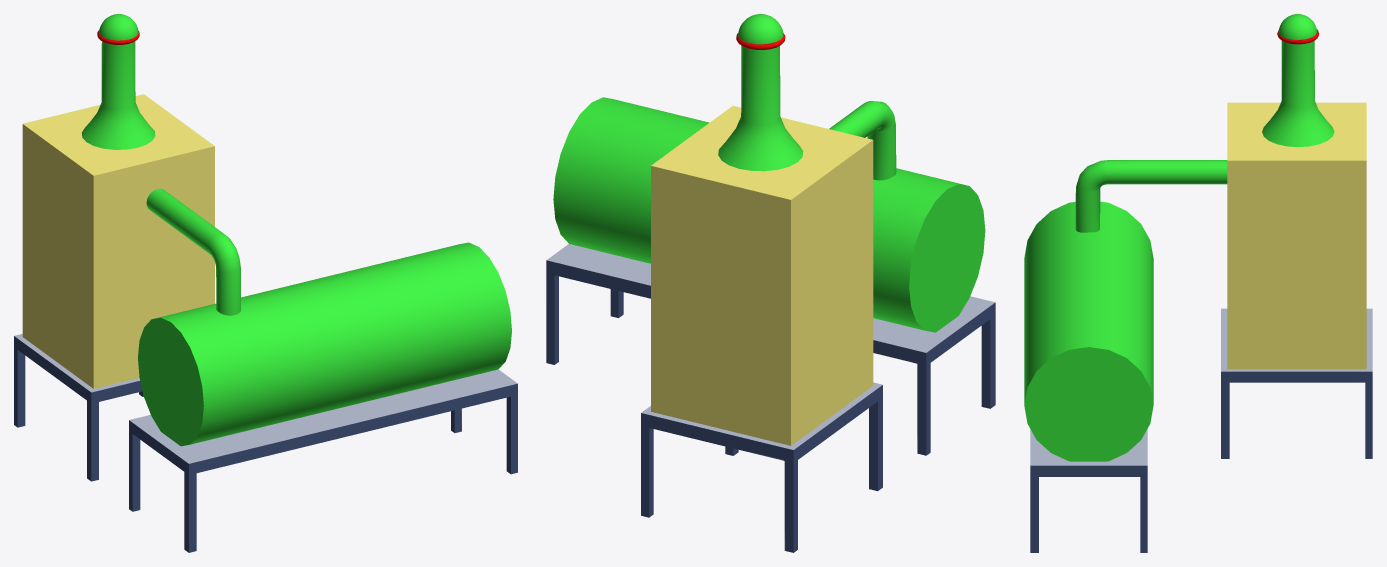
The model's file is BiodegradableFactory_stage0.fbx.
3 views of the same model, side by side, from view 1: azimuth 30°, elevation 25°; view 2: azimuth 150°, elevation 25°; view 3: azimuth 270°, elevation 25° (orthographic). The views are drawn at different scales.
Visible parts, largest first — view 1: polySurface49; view 2: polySurface49; view 3: polySurface49.
Part boxes in pixels (x1,y1,x2,y2): polySurface49: (14, 14, 517, 552); polySurface49: (546, 14, 995, 552); polySurface49: (1024, 14, 1372, 552).
Size of the model in its own units: 33.41 by 40.83 by 31.3.
4 materials, 4 textured.
